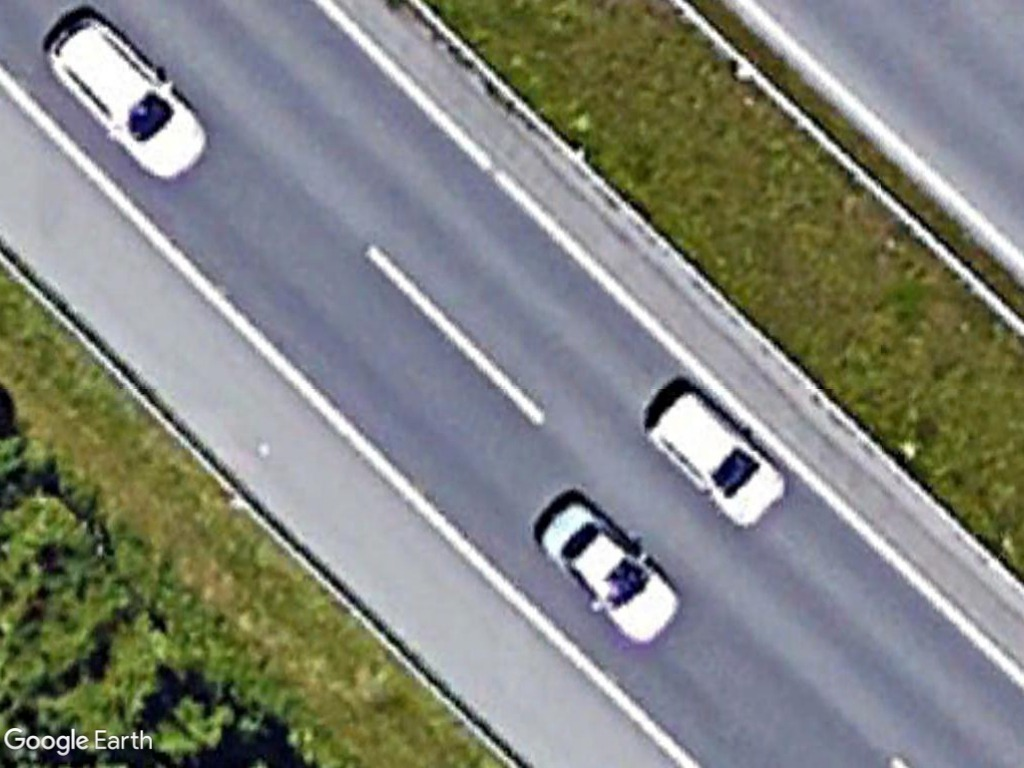car: (34, 10, 210, 193), (522, 493, 685, 647), (649, 390, 793, 532)
